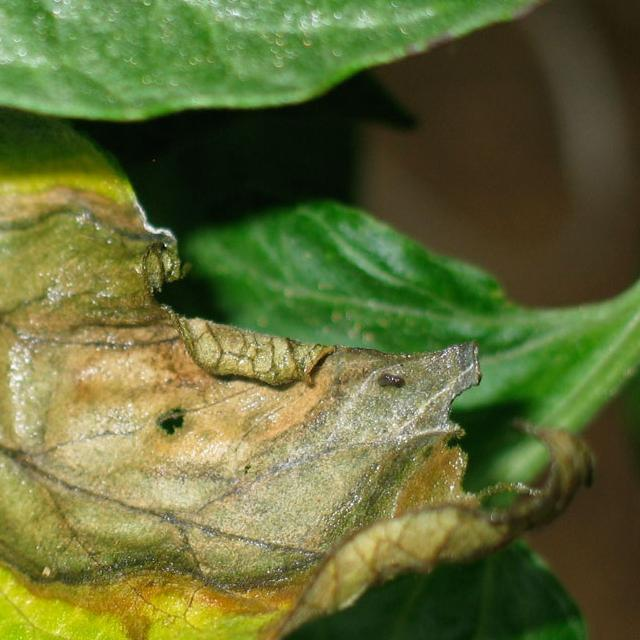Tomato leaf late blight: (0, 11, 593, 640)
